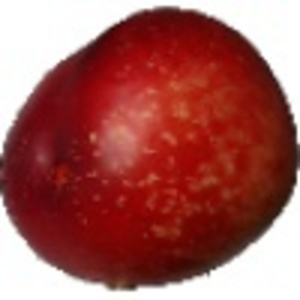nectarina: (1, 6, 300, 293)
